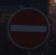No entry: (6, 5, 51, 50)
